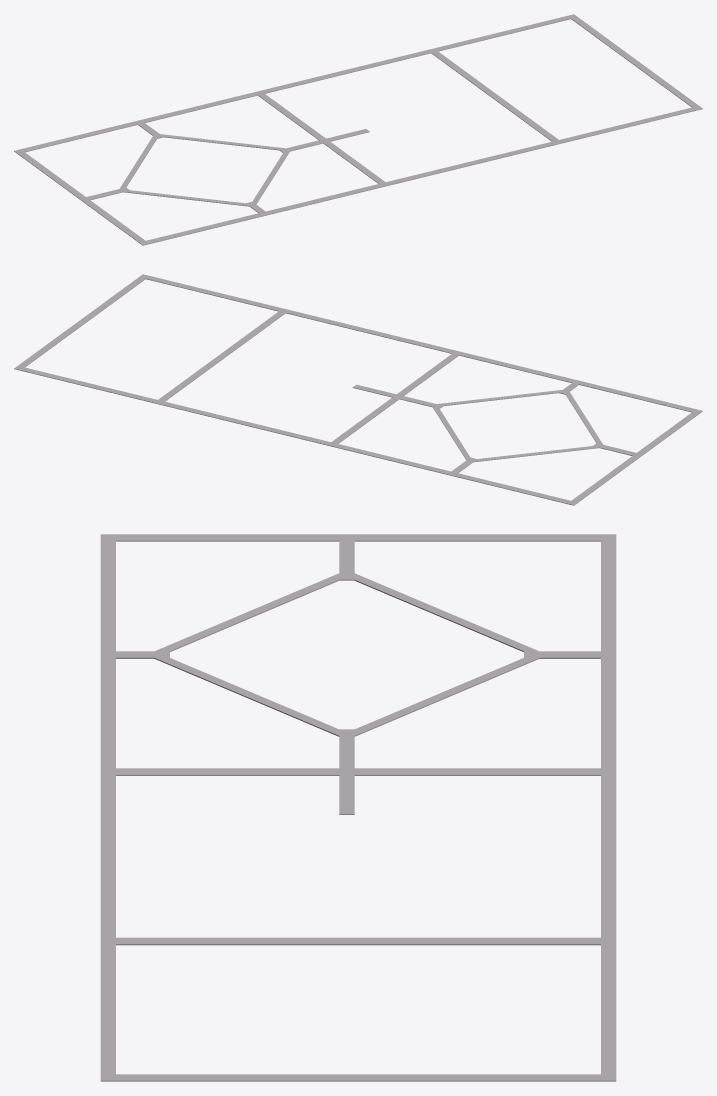
File: YuruyusYolu2.fbx
3 renders of one model, top to bottom at view 1: azimuth 30°, elevation 25°; view 2: azimuth 150°, elevation 25°; view 3: azimuth 270°, elevation 25°, orthographic. The views are drawn at different scales.
Visible parts, largest first — view 1: Plane.002; view 2: Plane.002; view 3: Plane.002.
Boxes of the visible parts, x1,y1,x2,y2 form: Plane.002: (14, 14, 702, 245); Plane.002: (14, 274, 702, 505); Plane.002: (100, 534, 616, 1081).
Size of the model in its own units: 16800 by 15 by 6700.
